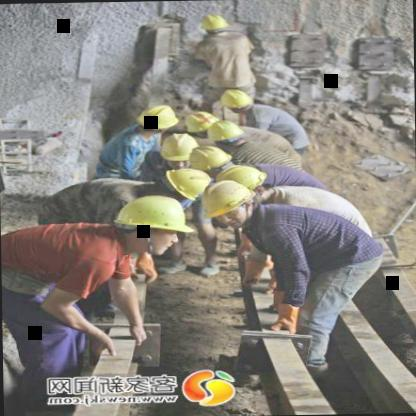helmet: (119, 192, 192, 260), (198, 172, 266, 222), (144, 168, 209, 198), (219, 162, 266, 198), (136, 103, 181, 140), (183, 145, 240, 173), (160, 132, 196, 168), (216, 88, 254, 121), (210, 119, 247, 151), (197, 14, 228, 42)
